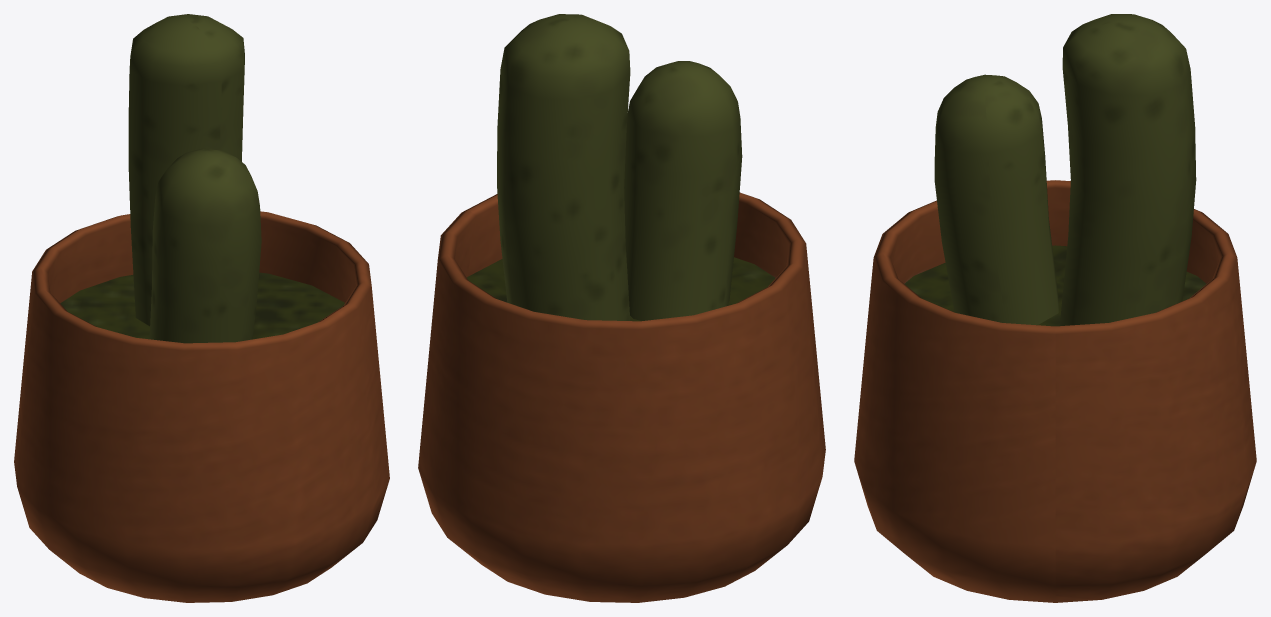
The model's file is Cactus.fbx.
3 renders of one model, left to right at view 1: azimuth 30°, elevation 25°; view 2: azimuth 150°, elevation 25°; view 3: azimuth 270°, elevation 25°, orthographic. The views are drawn at different scales.
Visible parts, largest first — view 1: pSphere3; view 2: pSphere3; view 3: pSphere3.
Boxes of the visible parts, <box> form: pSphere3: <box>14,14,389,602</box>; pSphere3: <box>418,14,825,602</box>; pSphere3: <box>854,14,1256,602</box>.
Size of the model in its own units: 1.35 by 1.99 by 1.35.
Materials: 1 (1 with a texture image).
